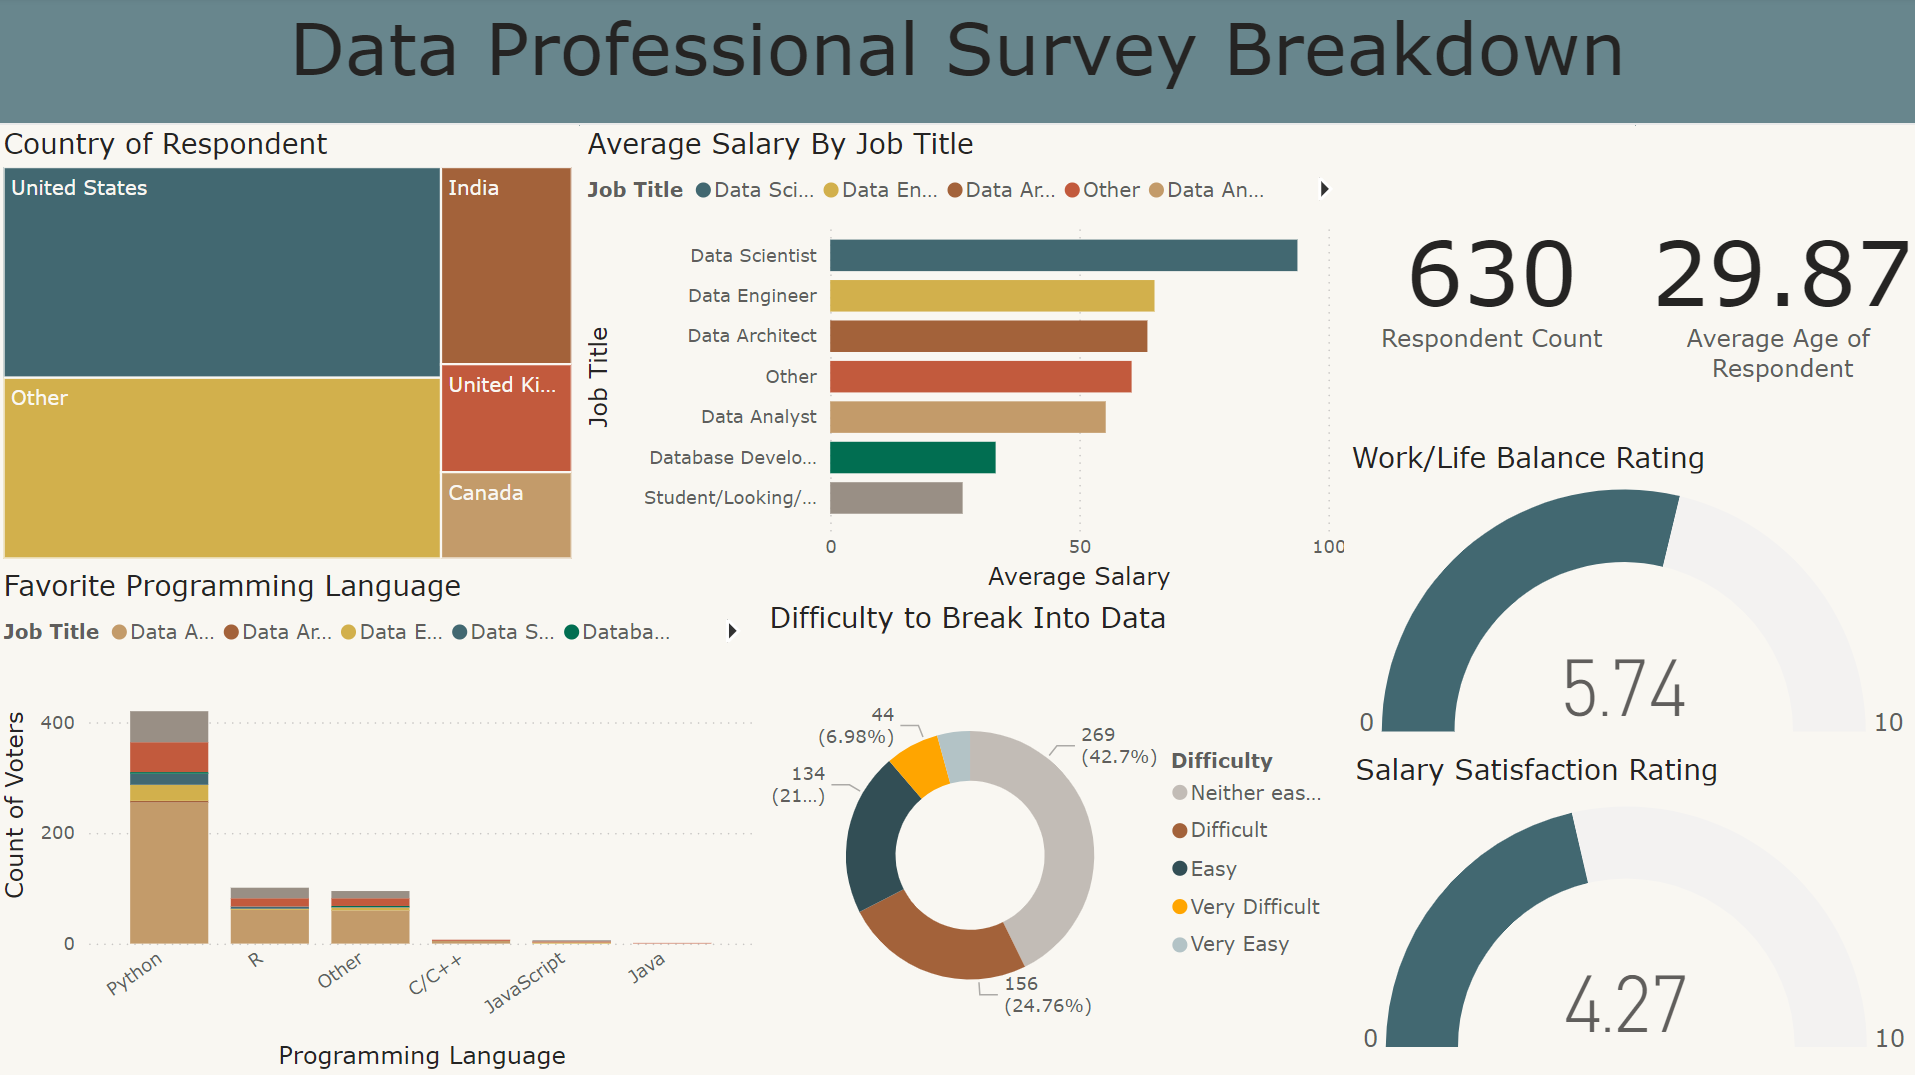

Layout of this report page (visuals, bound fields, positions):
{"tool":"powerbi","page":{"name":"Page 1","canvas":[1280,720],"ordinal":0},"visuals":[{"type":"textbox","box":[0,0,1280,87.1],"z":0},{"type":"card","fields":{"Values":["Count(Data Professional Survey.Unique ID)"]},"box":[899.4,87.1,191.2,208.3],"z":1000},{"type":"card","fields":{"Values":["Avg(Data Professional Survey.Q10 - Current Age)"]},"box":[1090.7,87.1,195,208.3],"z":2000},{"type":"barChart","title":"Average Salary By Job Title","fields":{"Category":["Data Professional Survey.Q1 - Which Title Best Fits your Current Role?.1"],"Y":["Avg(Data Professional Survey.Average Salary)"],"Series":["Data Professional Survey.Q1 - Which Title Best Fits your Current Role?.1"]},"box":[388.2,87.1,515,314.3],"z":3000},{"type":"columnChart","title":"Favorite Programming Language","fields":{"Category":["Data Professional Survey.Q5 - Favorite Programming Language.1"],"Y":["CountNonNull(Data Professional Survey.Unique ID)"],"Series":["Data Professional Survey.Q1 - Which Title Best Fits your Current Role?.1"]},"box":[0,380.6,509.3,338.9],"z":4000},{"type":"gauge","title":"Salary Satisfaction Rating","fields":{"Y":["Avg(Data Professional Survey.Q6 - How Happy are you in your Current Position with the following? (Salary))"],"MinValue":["Min(Data Professional Survey.Q6 - How Happy are you in your Current Position with the following? (Salary))1"],"MaxValue":["Max(Data Professional Survey.Q6 - How Happy are you in your Current Position with the following? (Salary))2"]},"box":[899.4,503.7,380.6,215.9],"z":5000},{"type":"gauge","title":"Work/Life Balance Rating","fields":{"Y":["Avg(Data Professional Survey.Q6 - How Happy are you in your Current Position with the following? (Work/Life Balance))"],"MinValue":["Min(Data Professional Survey.Q6 - How Happy are you in your Current Position with the following? (Work/Life Balance))1"],"MaxValue":["Max(Data Professional Survey.Q6 - How Happy are you in your Current Position with the following? (Work/Life Balance))2"]},"box":[897.5,295.4,382.5,210.2],"z":6000},{"type":"donutChart","title":"Difficulty to Break Into Data","fields":{"Category":["Data Professional Survey.Q7 - How difficult was it for you to break into Data?"],"Y":["CountNonNull(Data Professional Survey.Q7 - How difficult was it for you to break into Data?)"]},"box":[509.3,401.4,392,318.1],"z":7000},{"type":"treemap","title":"Country of Respondent","fields":{"Group":["Data Professional Survey.Q11 - Which Country do you live in?.1"],"Values":["CountNonNull(Data Professional Survey.Q11 - Which Country do you live in?.1)"]},"box":[0,87.1,388.2,293.5],"z":8000}]}

Visuals, with their boxes in screenshot pixels (x1, y1, x2, y2), scaled from the page's 1280x720 canvas onto the 1915x1075 screenshot:
textbox: 0/0/1914/130
card - Count(Data Professional Survey.Unique ID): 1346/130/1632/441
card - Avg(Data Professional Survey.Q10 - Current Age): 1632/130/1914/441
"Average Salary By Job Title" barChart: 581/130/1351/599
"Favorite Programming Language" columnChart: 0/568/762/1074
"Salary Satisfaction Rating" gauge: 1346/752/1914/1074
"Work/Life Balance Rating" gauge: 1343/441/1914/755
"Difficulty to Break Into Data" donutChart: 762/599/1348/1074
"Country of Respondent" treemap: 0/130/581/568
